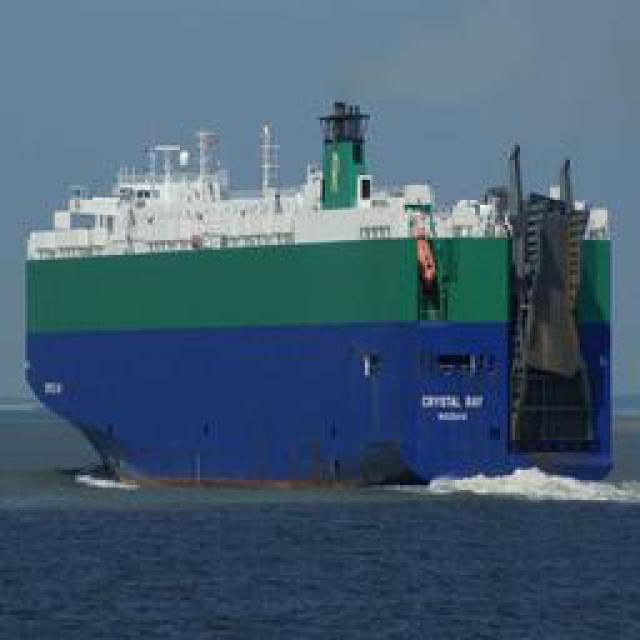Ship: (16, 102, 629, 492)
